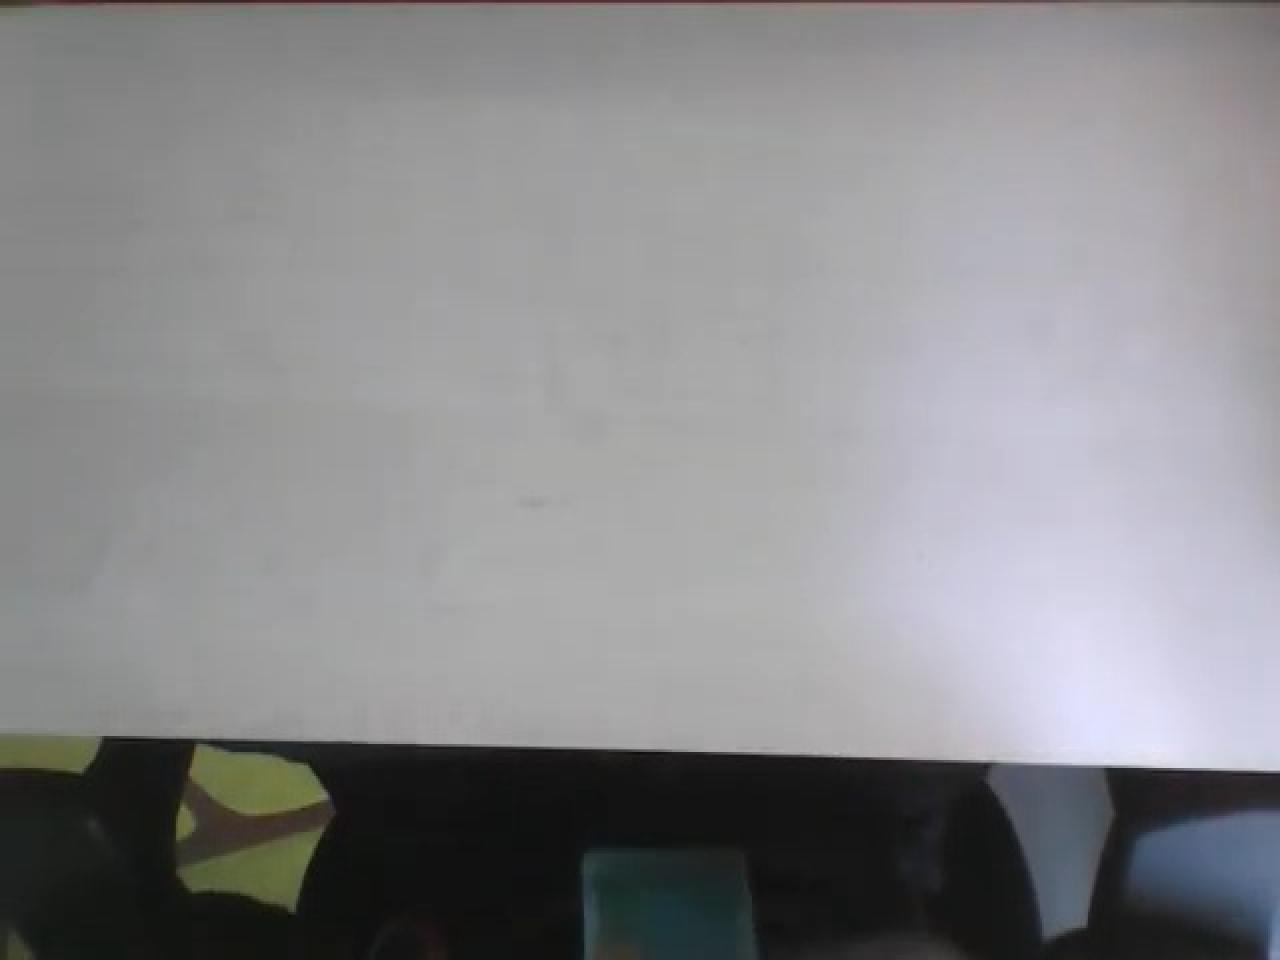100leva: (4, 8, 1278, 957), (6, 741, 1278, 960)
